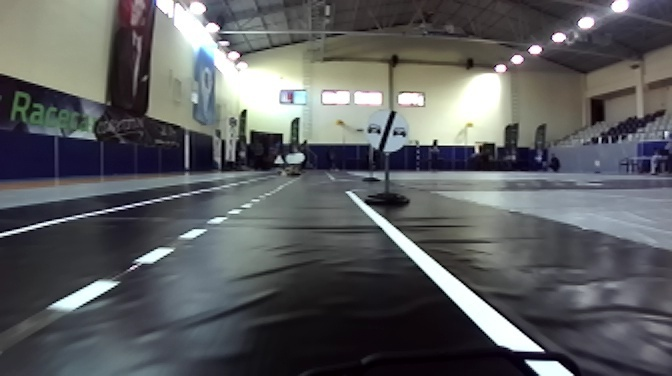sollama_serbest: (365, 108, 409, 155)
